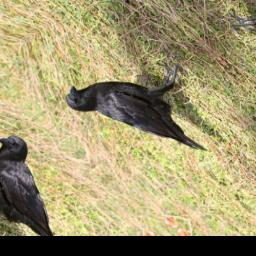Crow: (59, 33, 248, 190)
